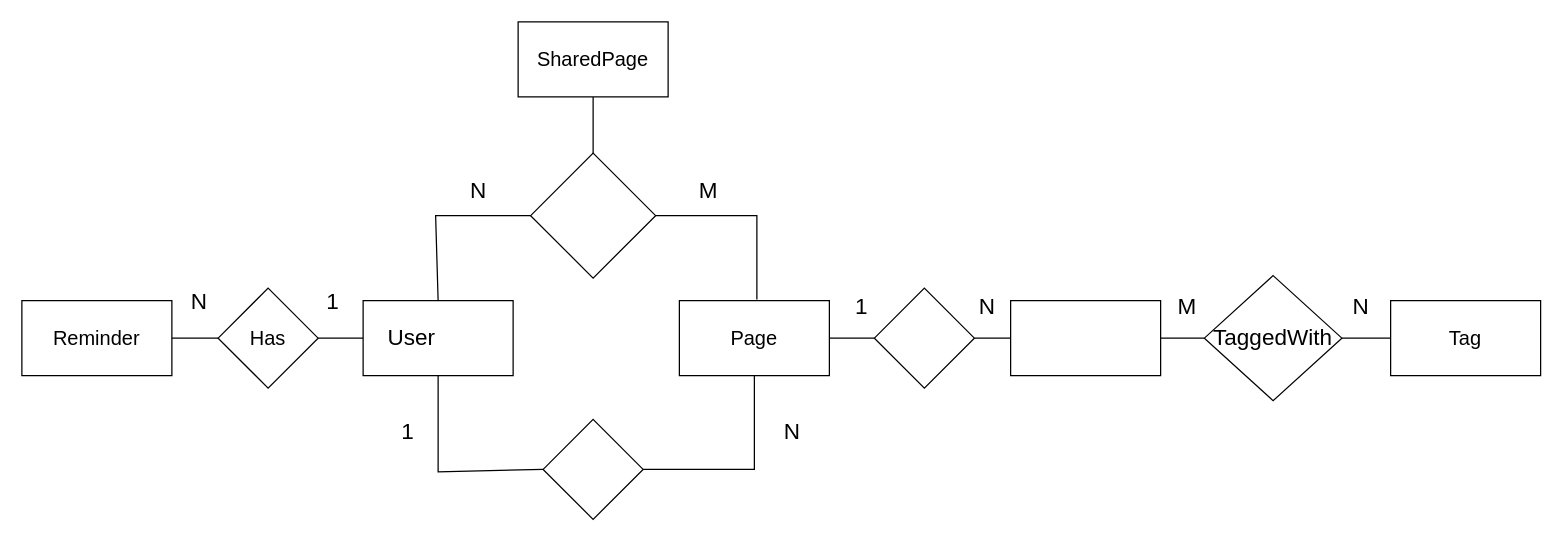
The diagram is 1563 pixels wide and 541 high, and some of its shapes have lost their labels. The centre of each missing label's shape, as x and y in pixels:
Contains: point (923, 337)
Creates: point (592, 468)
Note: point (1085, 337)
SharedWith: point (592, 215)
